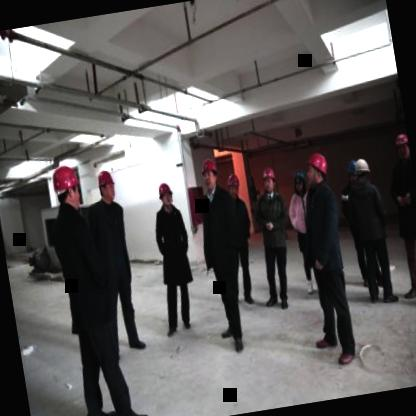helmet: (50, 160, 88, 216), (302, 149, 336, 189), (198, 155, 224, 196), (94, 164, 118, 204), (392, 129, 412, 167), (354, 153, 374, 187), (288, 168, 310, 198), (154, 180, 175, 210), (259, 164, 280, 194), (342, 154, 360, 186), (225, 173, 242, 201)
